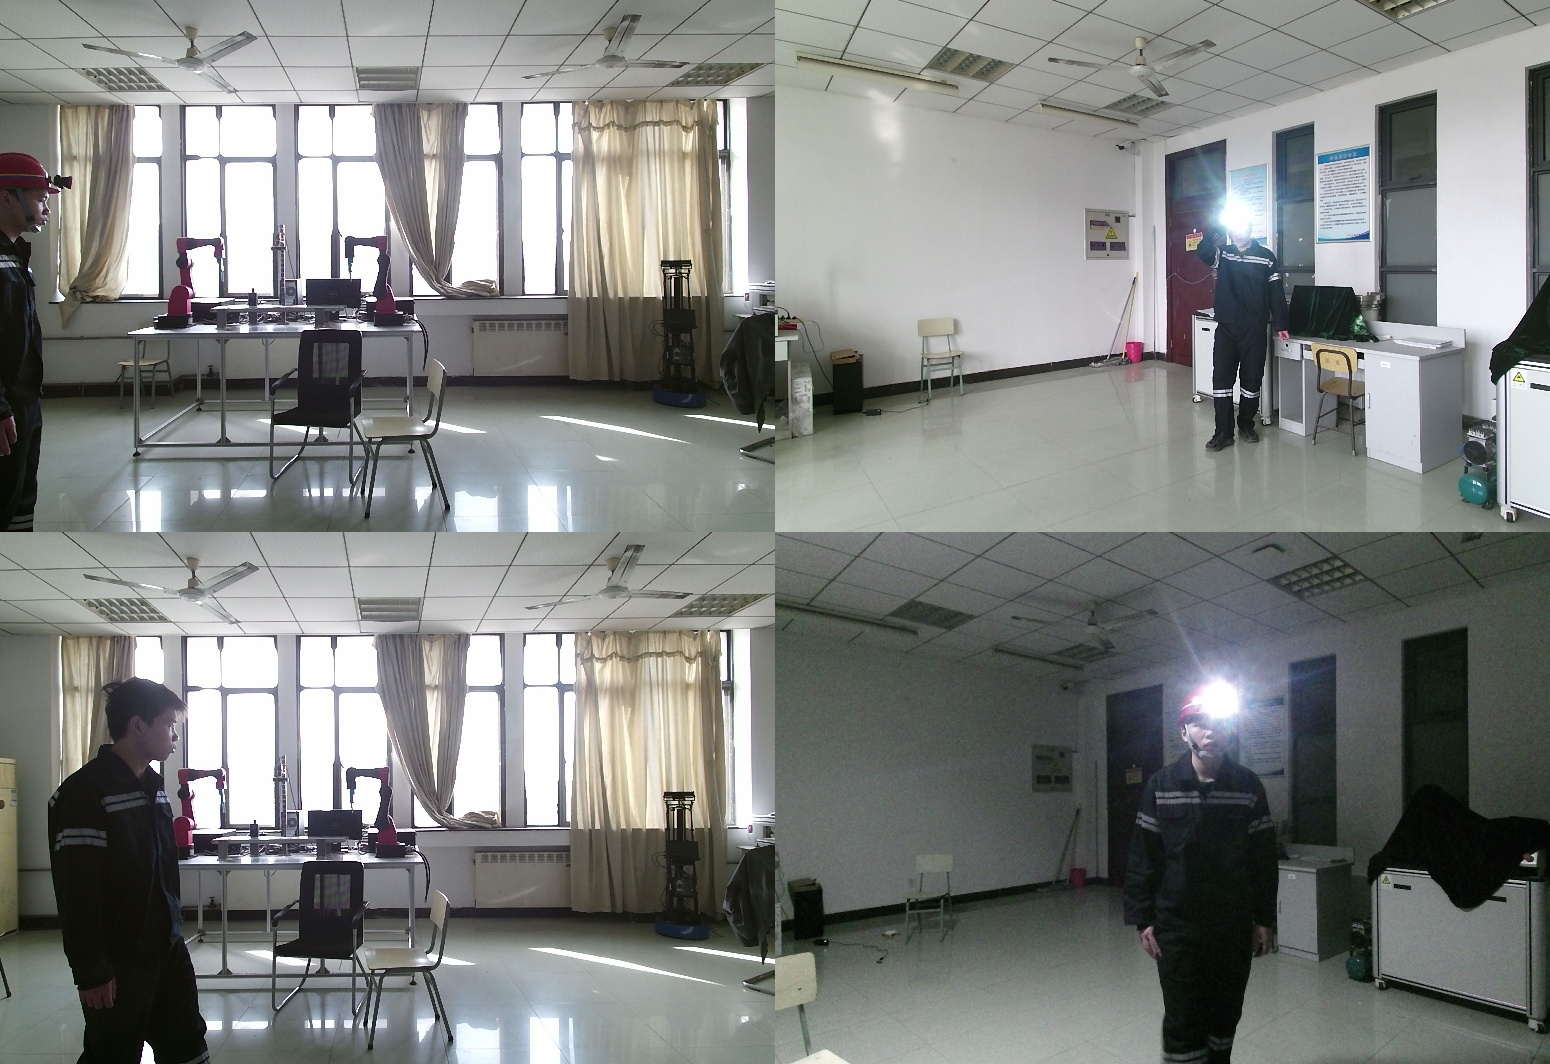person: (51, 679, 218, 1064), (1132, 681, 1293, 1064), (1, 152, 76, 532), (1197, 205, 1297, 451)
